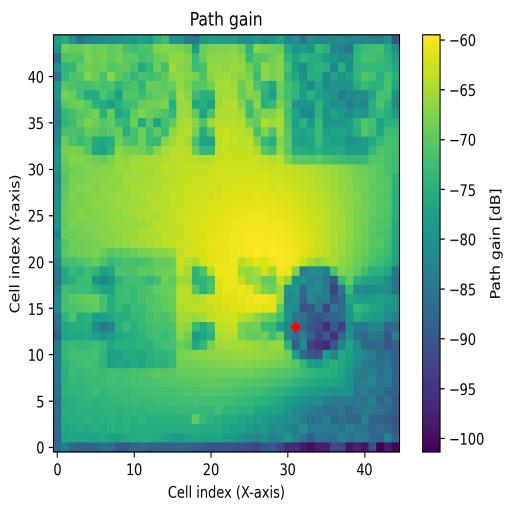Concrete: (284, 51, 384, 155)
Glass: (85, 55, 176, 156)
Metal: (277, 265, 352, 368)
Wood: (100, 248, 177, 368)
